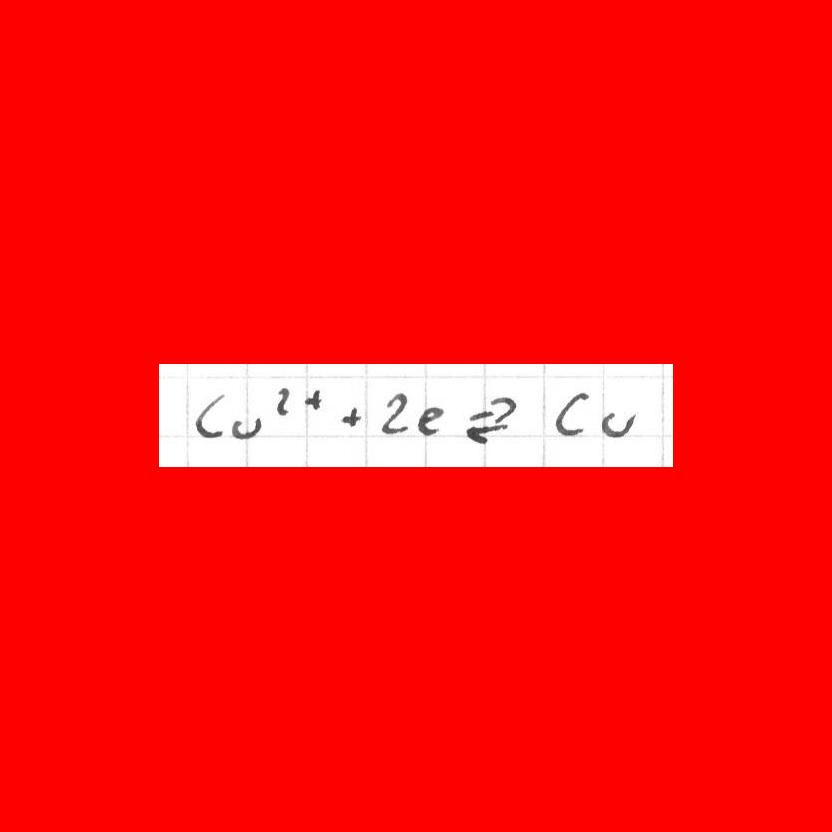Char: (461, 394, 517, 446), (552, 389, 590, 438), (190, 391, 227, 441), (378, 390, 410, 435), (598, 406, 639, 439), (416, 405, 444, 436), (231, 415, 264, 440), (272, 385, 292, 419), (341, 403, 366, 429), (303, 386, 327, 413)
